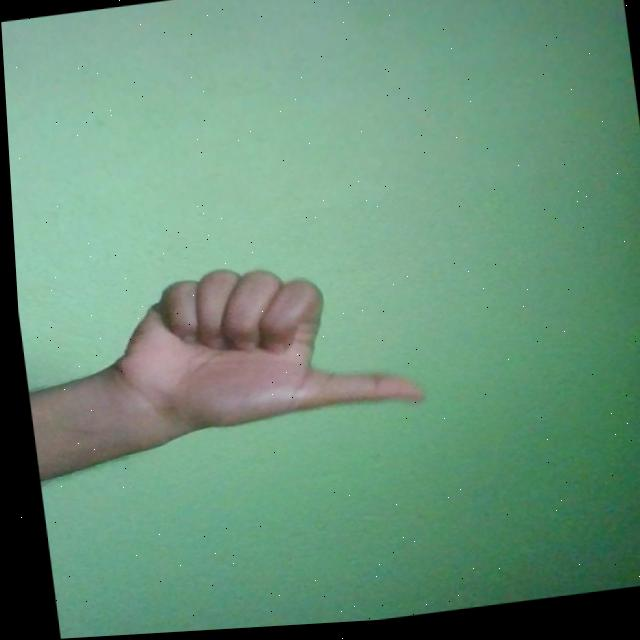Good Job: (91, 247, 422, 444)
